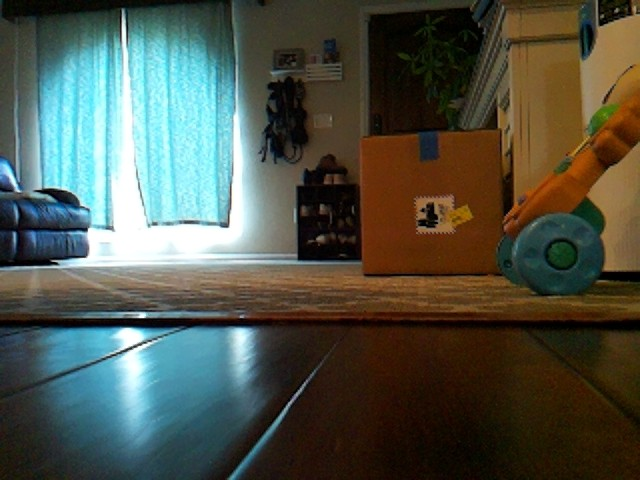Drivable Area: (4, 269, 354, 480), (346, 283, 497, 480), (487, 305, 640, 480)
Obstacle: (507, 61, 640, 294), (359, 134, 506, 275)
